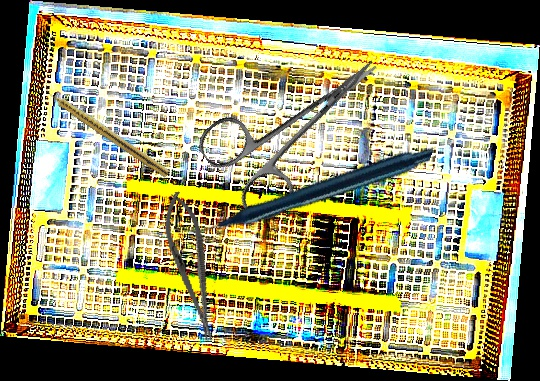Handpiece: (181, 80, 435, 298), (40, 84, 172, 178)
Iris Scissors: (191, 23, 412, 229)
Needle Holder: (155, 188, 227, 345)
